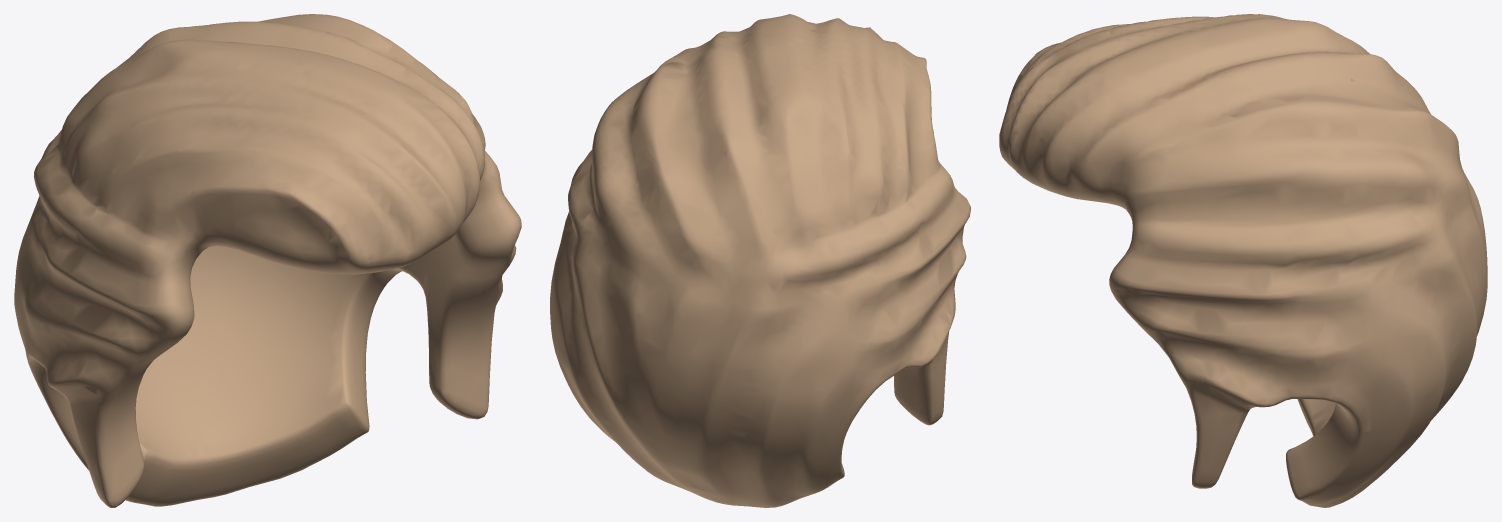
File: hair-7-bf276afd.glb
3 views of the same model, side by side, from view 1: azimuth 30°, elevation 25°; view 2: azimuth 150°, elevation 25°; view 3: azimuth 270°, elevation 25° (orthographic). The views are drawn at different scales.
Parts seen in each view (by area): view 1: Geo_White_Old_Male_Hair_7.001; view 2: Geo_White_Old_Male_Hair_7.001; view 3: Geo_White_Old_Male_Hair_7.001.
Boxes of the visible parts, x1,y1,x2,y2 form: Geo_White_Old_Male_Hair_7.001: [14, 14, 521, 507]; Geo_White_Old_Male_Hair_7.001: [550, 14, 970, 507]; Geo_White_Old_Male_Hair_7.001: [999, 14, 1487, 507].
Size of the model in its own units: 1.47 by 1.61 by 1.59.
